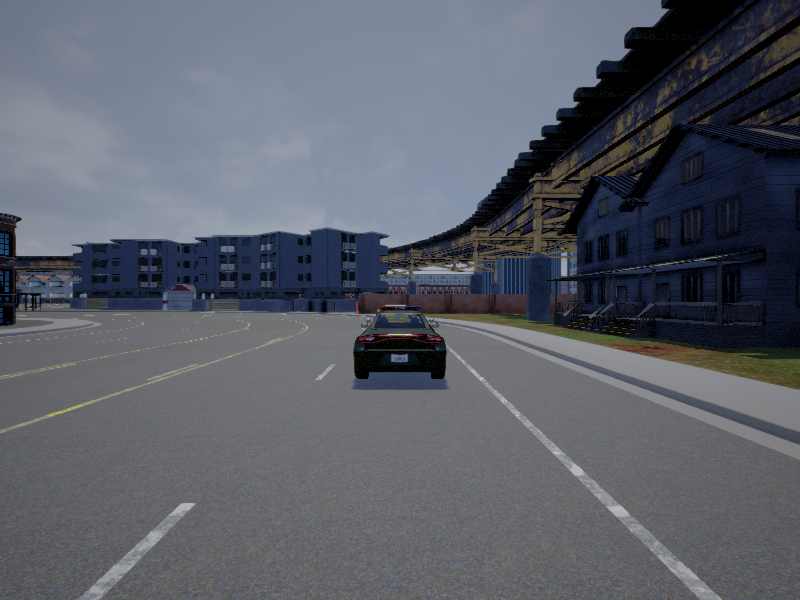benign: (353, 305, 446, 385)
